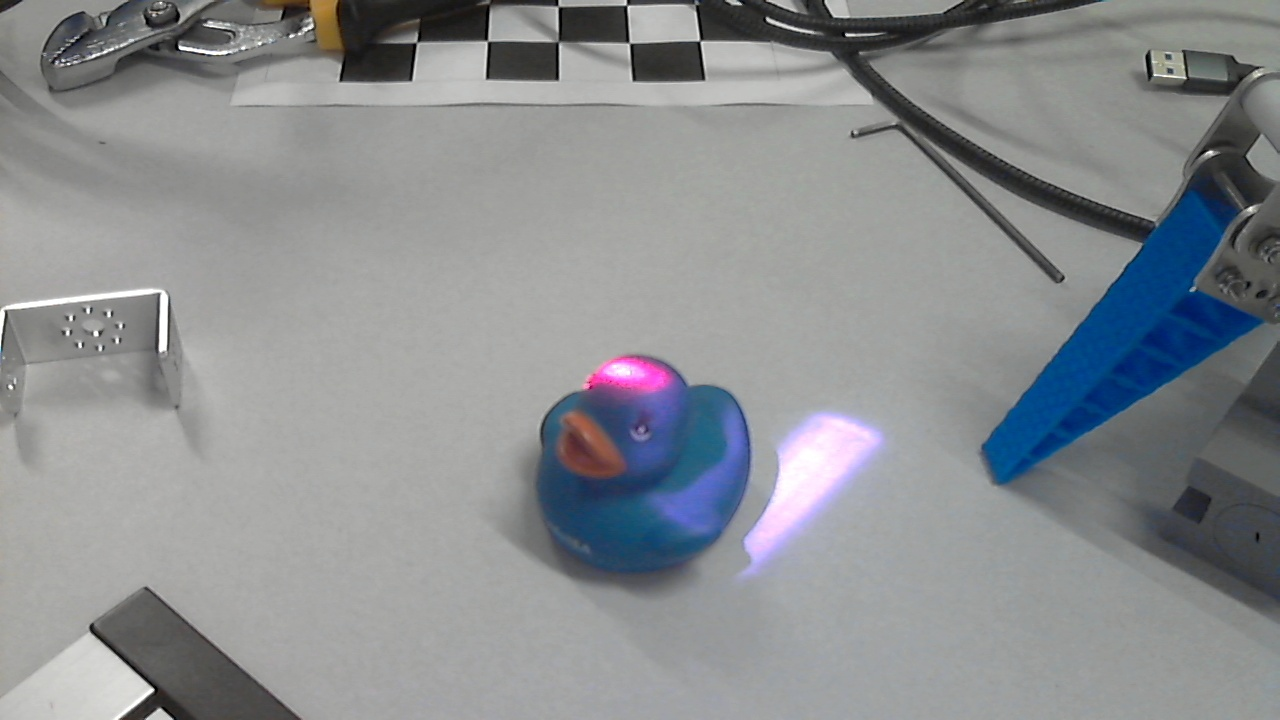Object retractable gel pen - Material plastic- Pdfname asdasdaswe: (574, 350, 707, 484)
